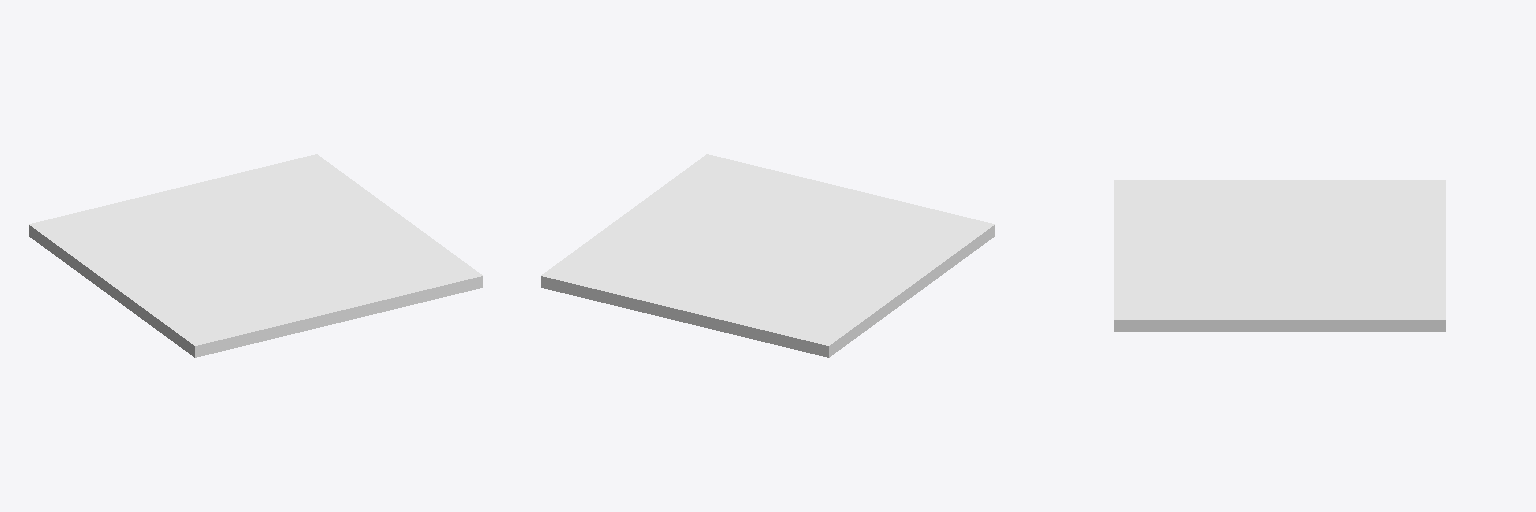
Rendered from GroundBig.obj.
The picture shows the model from 3 angles: view 1: azimuth 30°, elevation 25°; view 2: azimuth 150°, elevation 25°; view 3: azimuth 270°, elevation 25°; orthographic projection.
Visible parts, largest first — view 1: object 1; view 2: object 1; view 3: object 1.
Part boxes in pixels (x1,y1,x2,y2): object 1: (29,154,482,357); object 1: (541,154,994,357); object 1: (1114,180,1445,331).
Size of the model in its own units: 25.6 by 1 by 25.6.